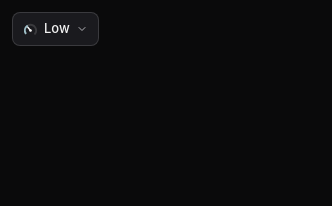
Test: EffortPicker › tags the model default and does not describe each level
The image size is (332, 206).
Click the button with aria-label "Reasoning effort" at point(55, 29), box [12, 12, 99, 46]
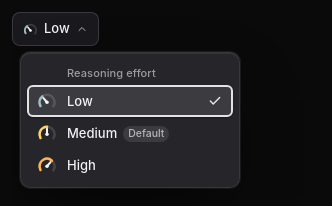
Expected: the option "High" does not show "Default", [27, 149, 233, 181]
Expected: the option "Medium Default" is shown, [27, 117, 233, 149]
